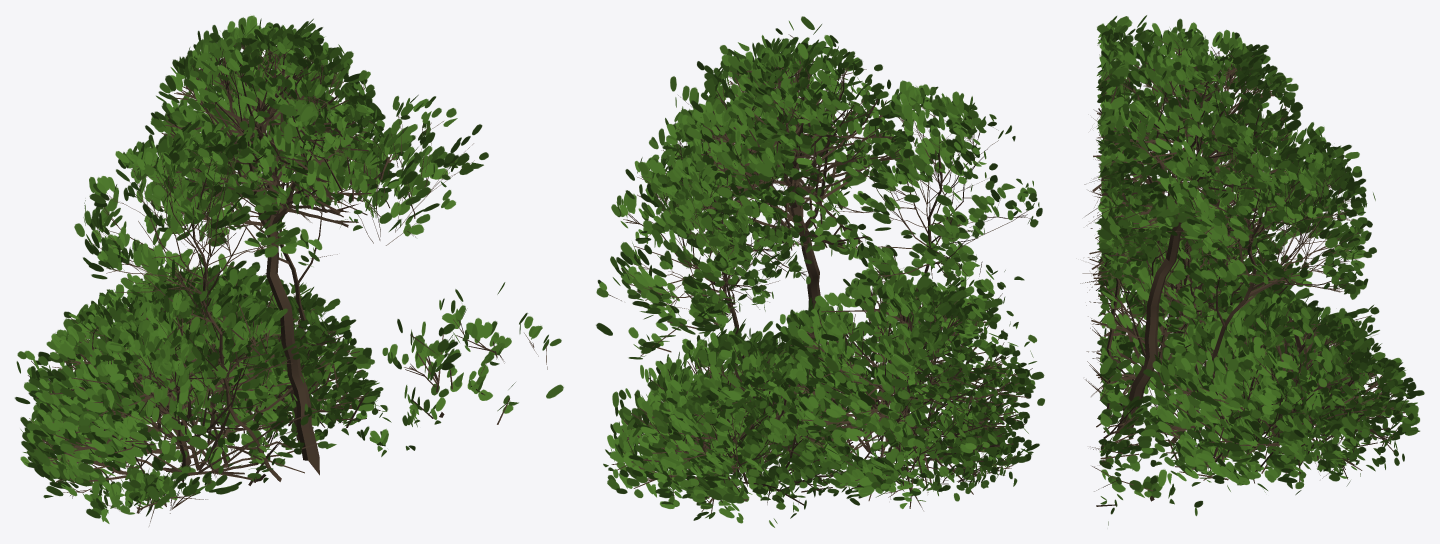
3 views of the same model, side by side, from view 1: azimuth 30°, elevation 25°; view 2: azimuth 150°, elevation 25°; view 3: azimuth 270°, elevation 25° (orthographic). The views are drawn at different scales.
Visible parts, largest first — view 1: oak 01.001_trunk_Mat.001_0.486; view 2: oak 01.001_trunk_Mat.001_0.486; view 3: oak 01.001_trunk_Mat.001_0.486.
Boxes of the visible parts, x1,y1,x2,y2 form: oak 01.001_trunk_Mat.001_0.486: (15,15,563,525); oak 01.001_trunk_Mat.001_0.486: (596,16,1044,527); oak 01.001_trunk_Mat.001_0.486: (1080,15,1424,525).
Bounding box in the file's own units: 5.53 × 4.77 × 3.57.
2 materials, 1 textured.
